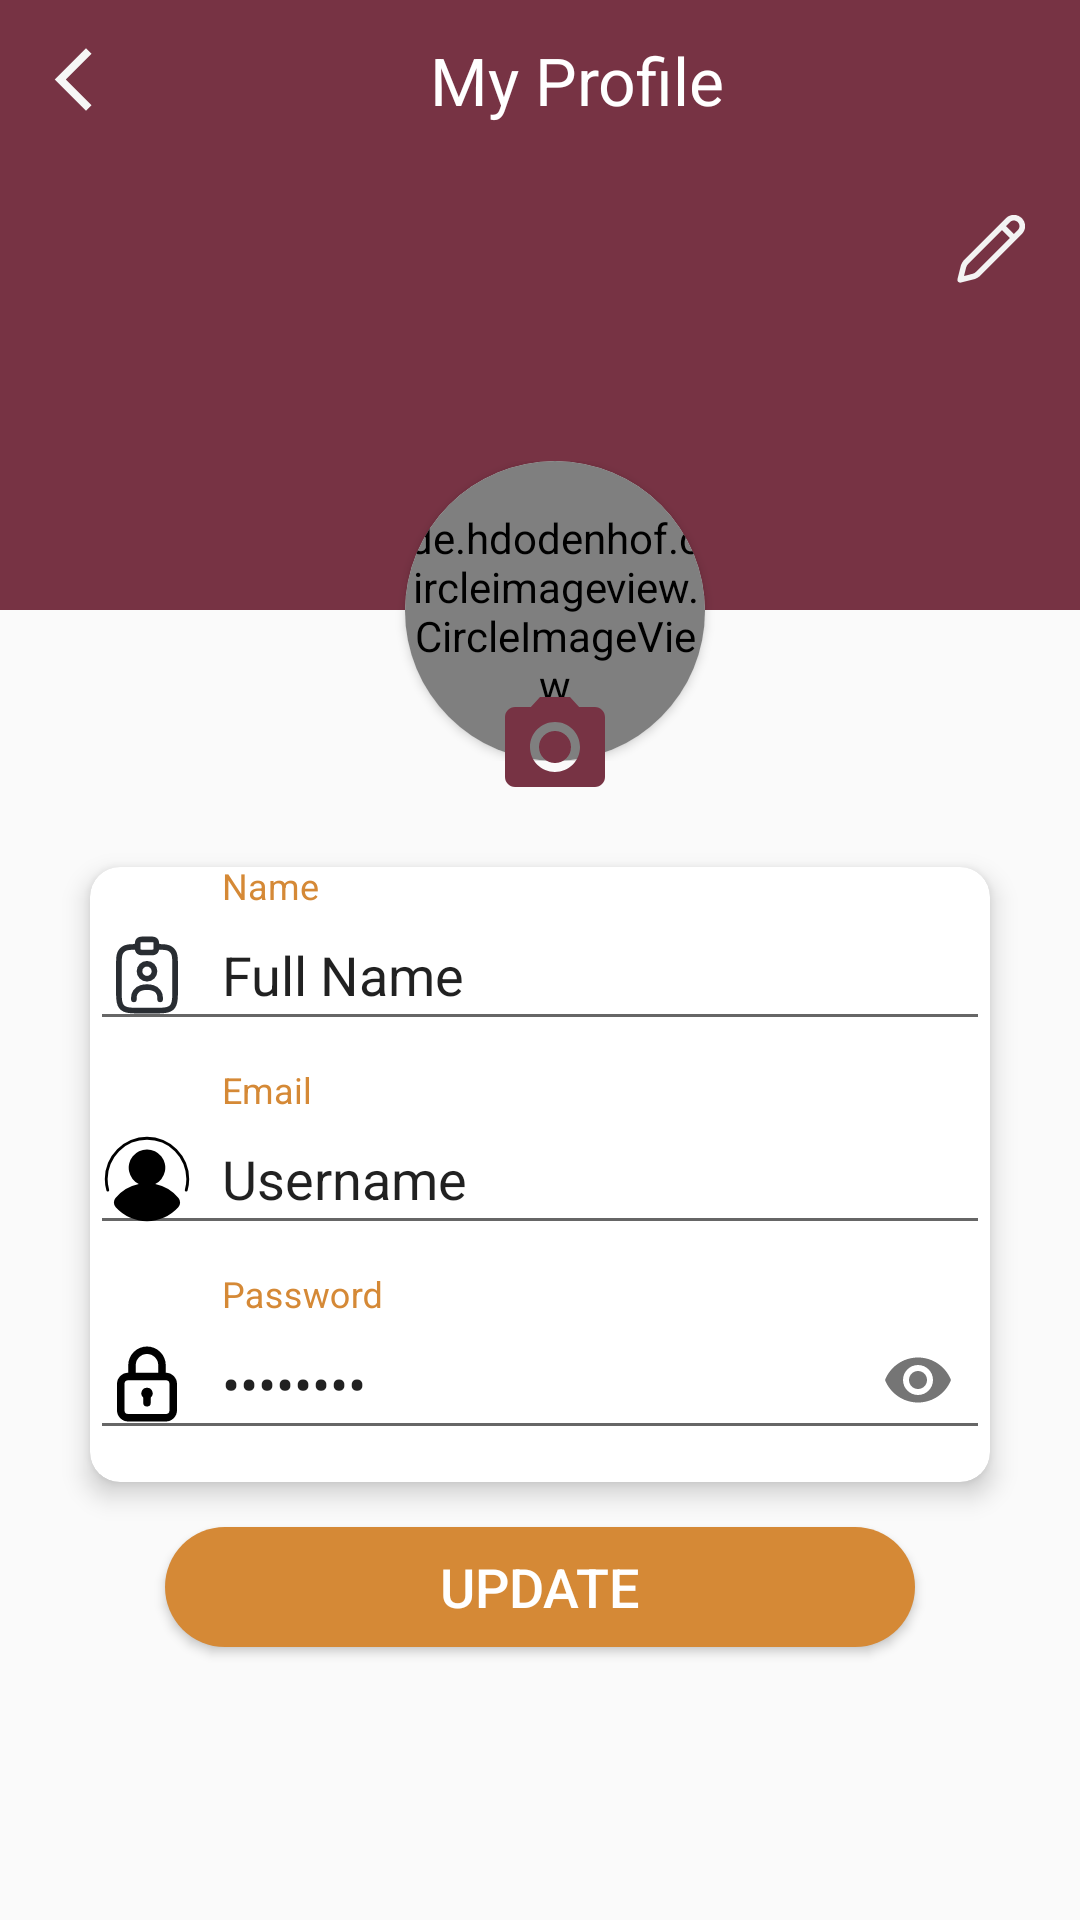

Where icons sit on this 1080*1920 app screen, as (left=x1, top=y1, right=x2, bottom=y2):
edit: (left=957, top=215, right=1025, bottom=283)
previousarrow: (left=55, top=48, right=92, bottom=111)
